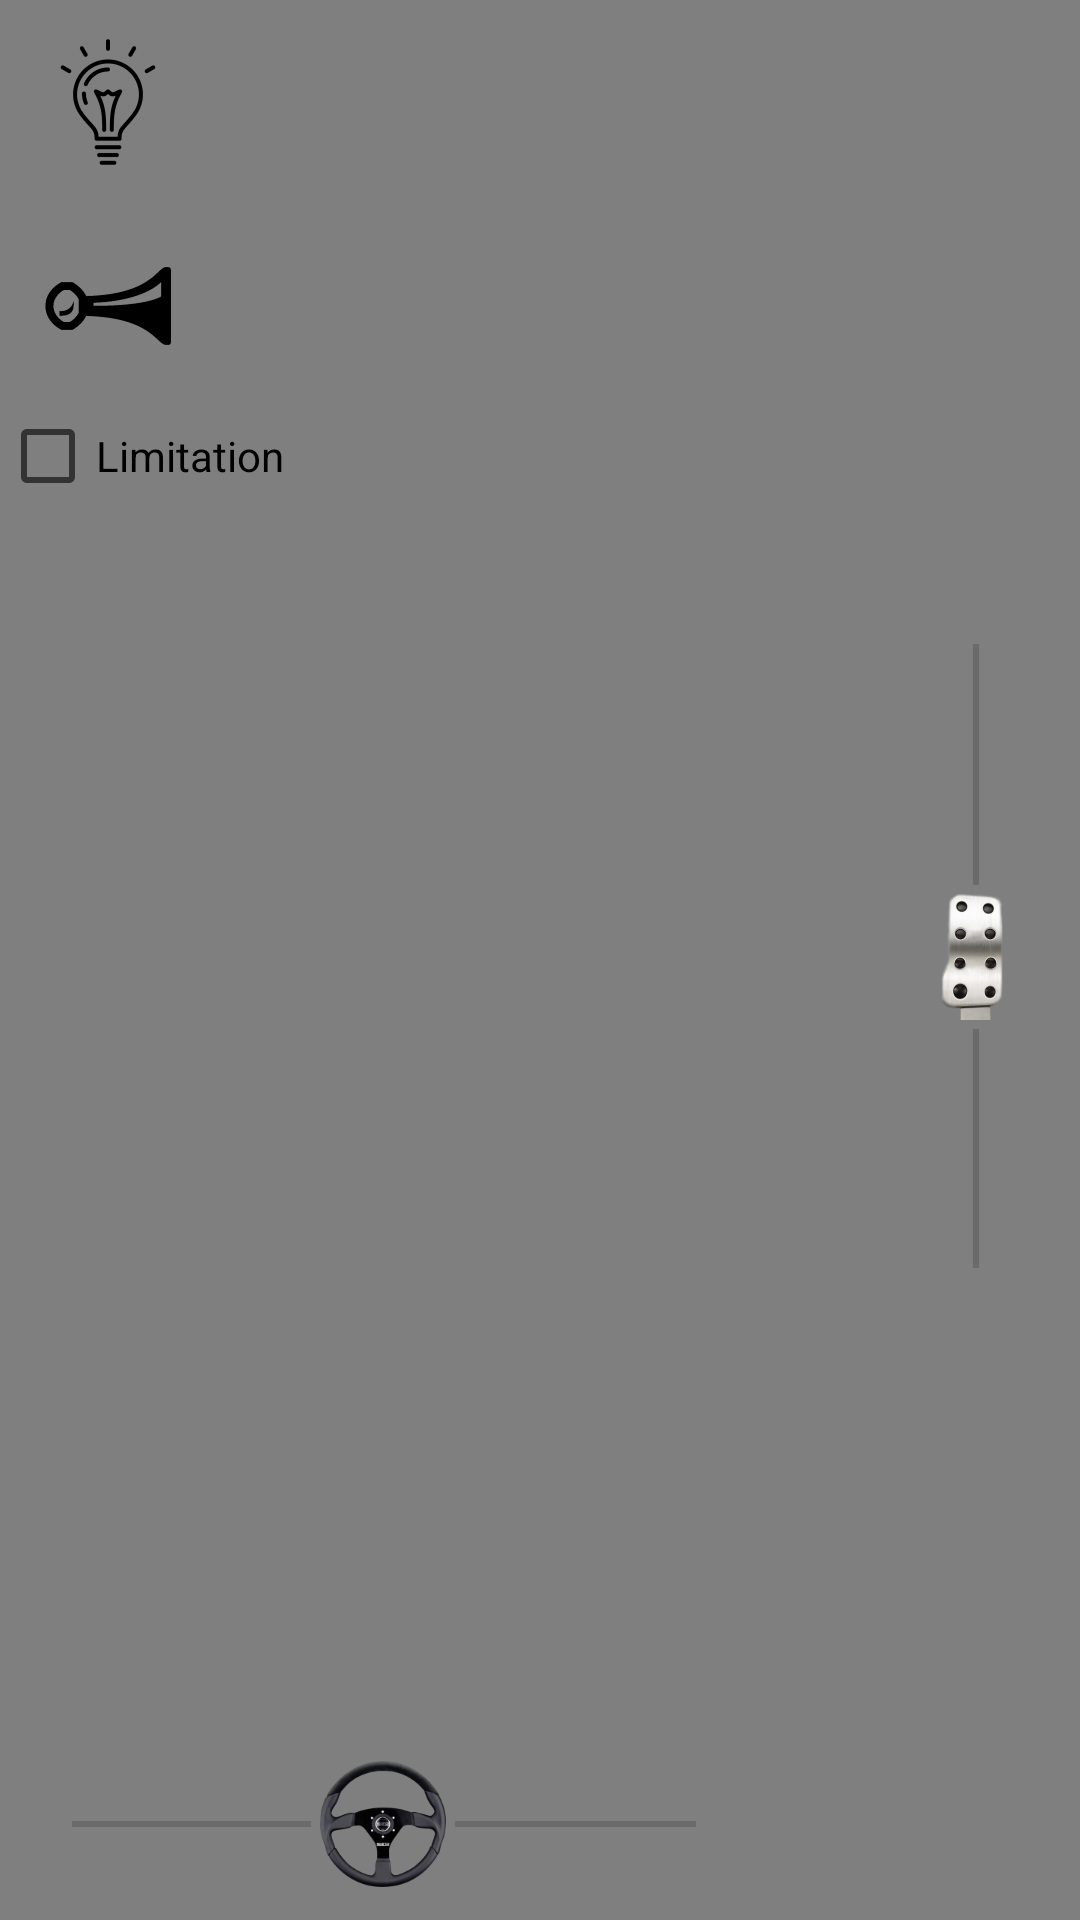

Icons on this 1080*1920 Android screen, each with its box as (x1, y1, x2, y2):
bulb off: (60, 39, 156, 165)
signal horn off: (45, 267, 171, 345)
